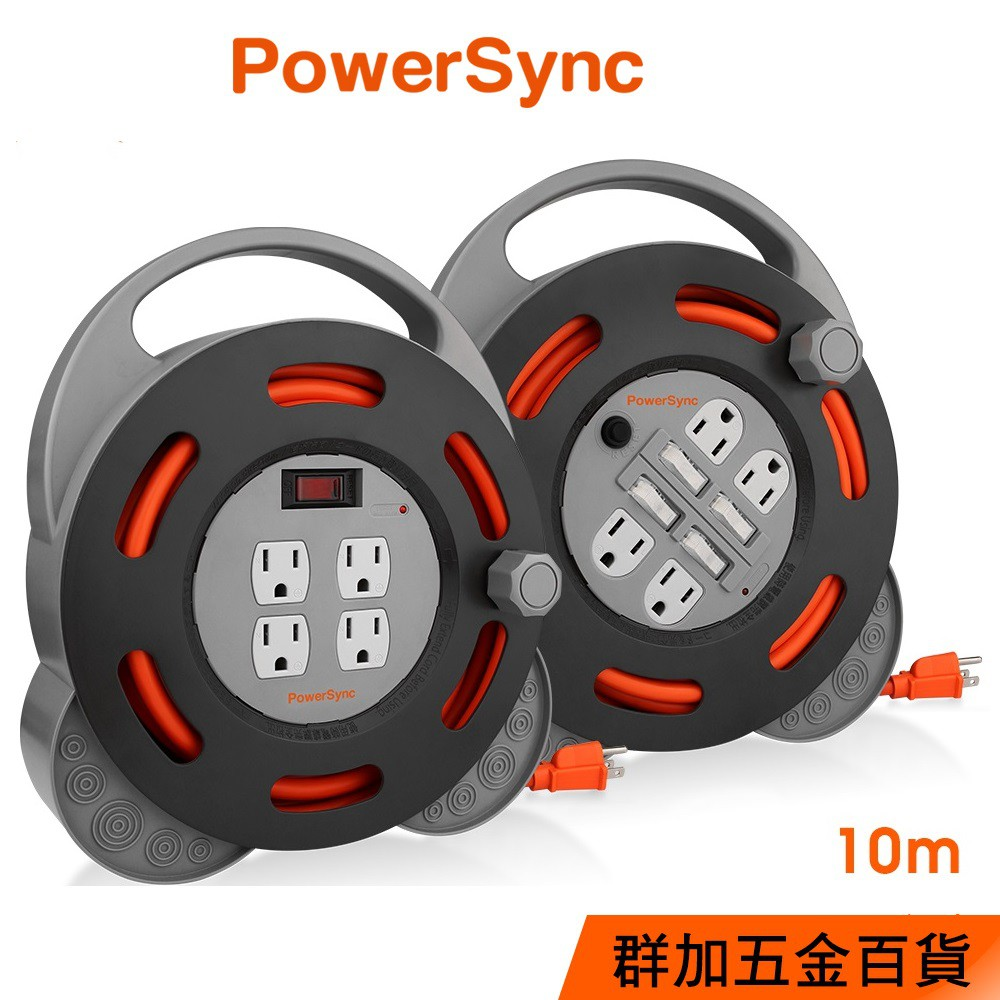socket: (18, 226, 560, 892), (433, 157, 906, 754)
